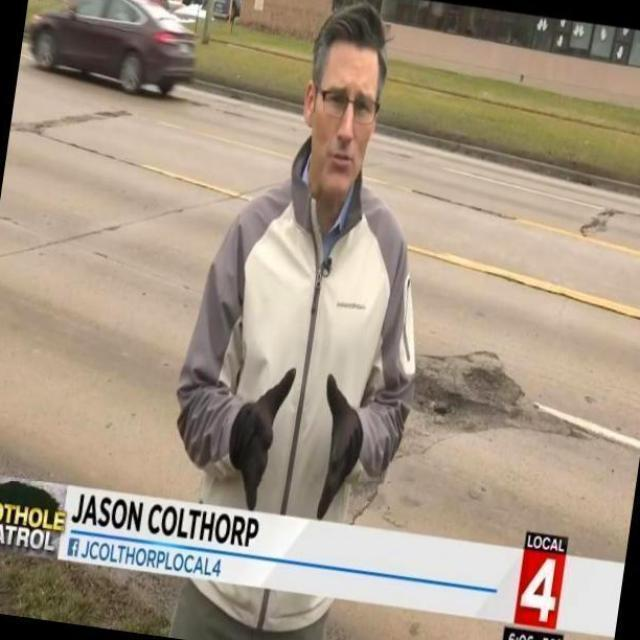Pathole: (410, 357, 577, 444), (581, 209, 614, 246)
